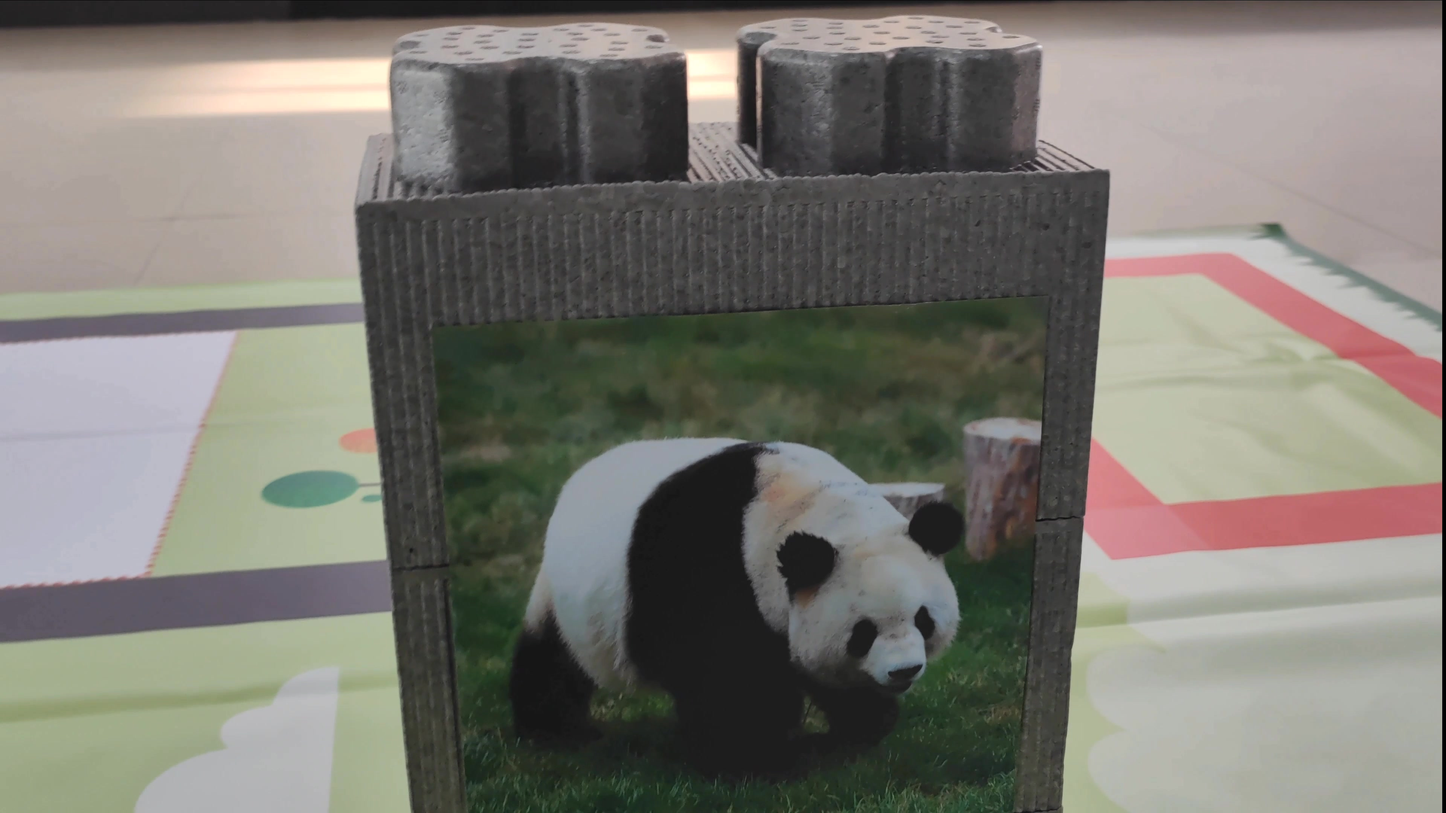panda: (501, 395, 985, 781)
